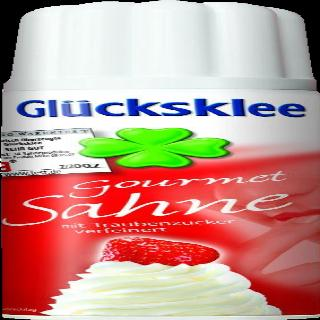cream: (0, 0, 320, 320)
